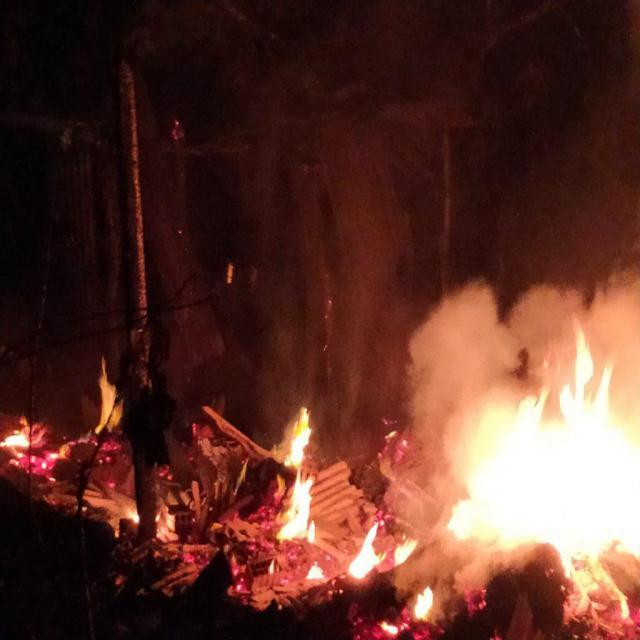Fire: (428, 320, 638, 564), (89, 354, 125, 435), (280, 471, 318, 538), (348, 516, 386, 582), (278, 408, 314, 467), (3, 414, 34, 449), (408, 586, 434, 618), (392, 539, 419, 567)
